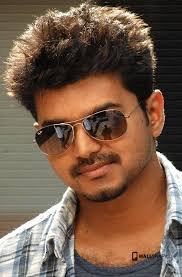g.y: (35, 123, 74, 161)
